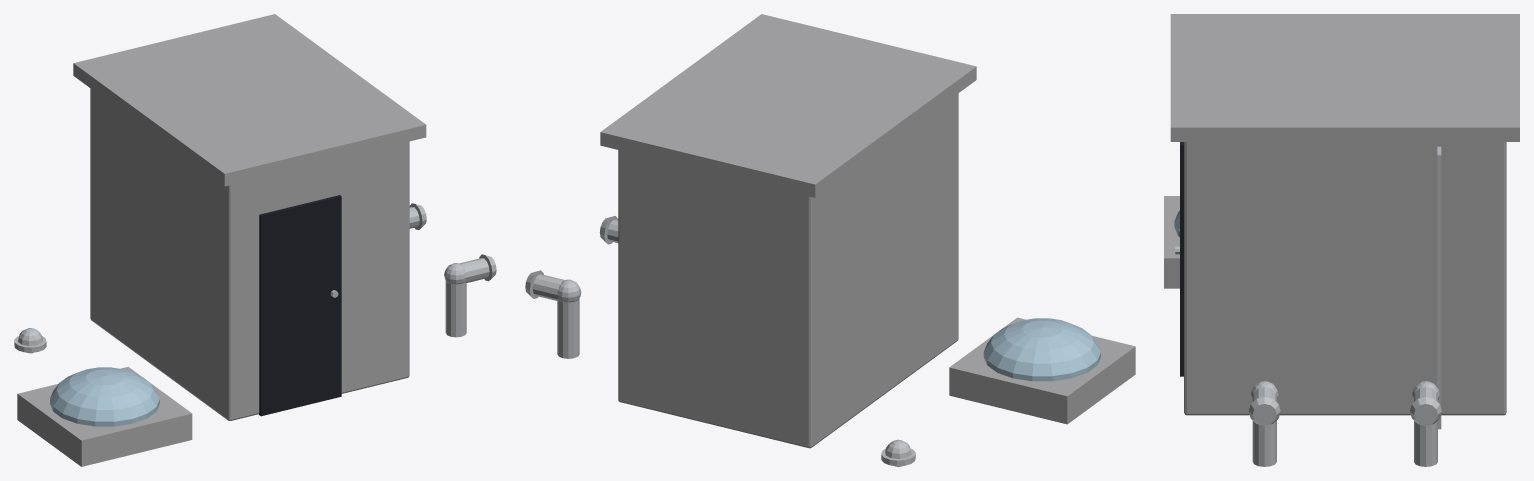
File: roof-furniture.glb
The picture shows the model from 3 angles, left to right: view 1: azimuth 30°, elevation 25°; view 2: azimuth 150°, elevation 25°; view 3: azimuth 270°, elevation 25°; orthographic projection. The views are drawn at different scales.
Parts seen in each view (by area): view 1: roof_roof_conc, roof_chiller_dark, roof_roof_glass, roof_roof_galv; view 2: roof_roof_conc, roof_roof_glass, roof_roof_galv; view 3: roof_roof_conc, roof_roof_galv, roof_chiller_dark.
Part boxes in pixels (x1,y1,x2,y2): roof_roof_conc: (17, 14, 426, 466); roof_chiller_dark: (259, 195, 341, 416); roof_roof_glass: (50, 367, 159, 426); roof_roof_galv: (14, 203, 496, 353); roof_roof_conc: (600, 14, 1135, 448); roof_roof_glass: (983, 318, 1100, 381); roof_roof_galv: (525, 216, 915, 466); roof_roof_conc: (1164, 14, 1519, 415); roof_roof_galv: (1175, 146, 1441, 466); roof_chiller_dark: (1180, 142, 1183, 376).
Size of the model in its own units: 4.5 by 2.48 by 2.65.
